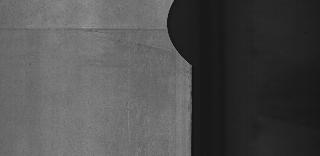welding line: (2, 23, 175, 36)
